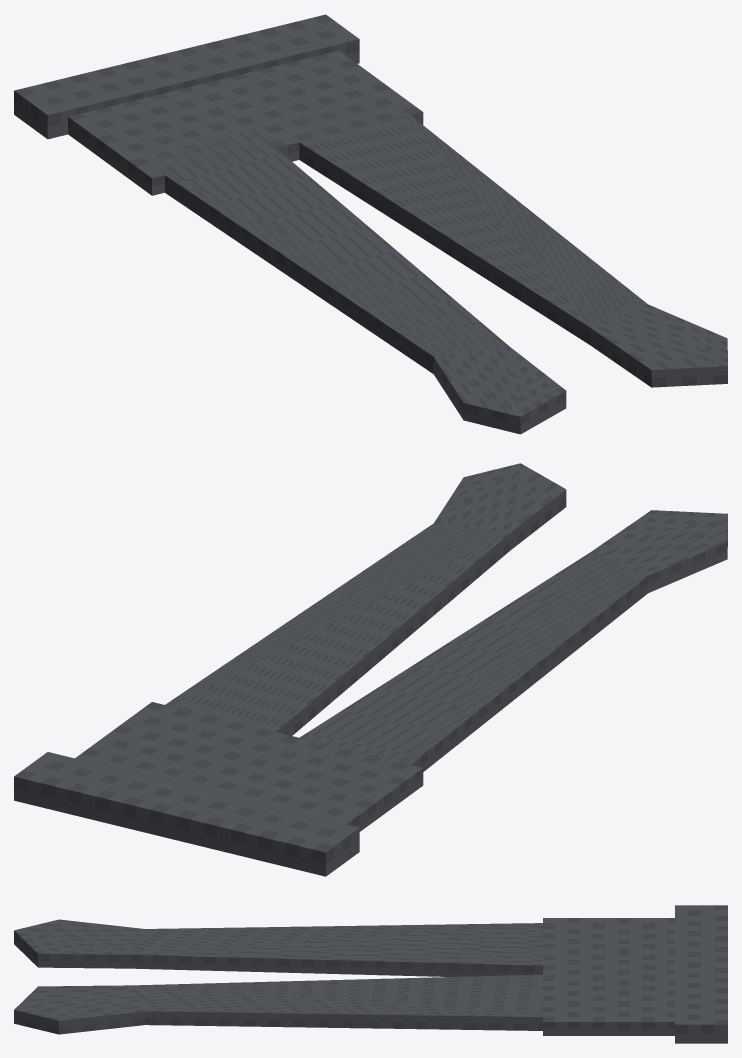
File: tights.glb
3 renders of one model, top to bottom at view 1: azimuth 30°, elevation 25°; view 2: azimuth 150°, elevation 25°; view 3: azimuth 270°, elevation 25°, orthographic. The views are drawn at different scales.
Parts seen in each view (by area): view 1: block_slim closed foot (×2), block_knit seat, block_elastic waistband; view 2: block_slim closed foot (×2), block_knit seat, block_elastic waistband; view 3: block_slim closed foot (×2), block_knit seat, block_elastic waistband.
Part boxes in pixels (box(x1,y1,x2,y2)): block_slim closed foot (×2): box(143, 101, 727, 434); block_knit seat: box(68, 50, 423, 195); block_elastic waistband: box(14, 14, 359, 139); block_slim closed foot (×2): box(157, 463, 727, 771); block_knit seat: box(75, 702, 423, 831); block_elastic waistband: box(14, 752, 359, 876); block_slim closed foot (×2): box(14, 919, 582, 1034); block_knit seat: box(543, 918, 674, 1035); block_elastic waistband: box(675, 905, 727, 1043).
Bounding box in the file's own units: 0.2577 × 0.019 × 0.65.
1 material, 1 textured.
